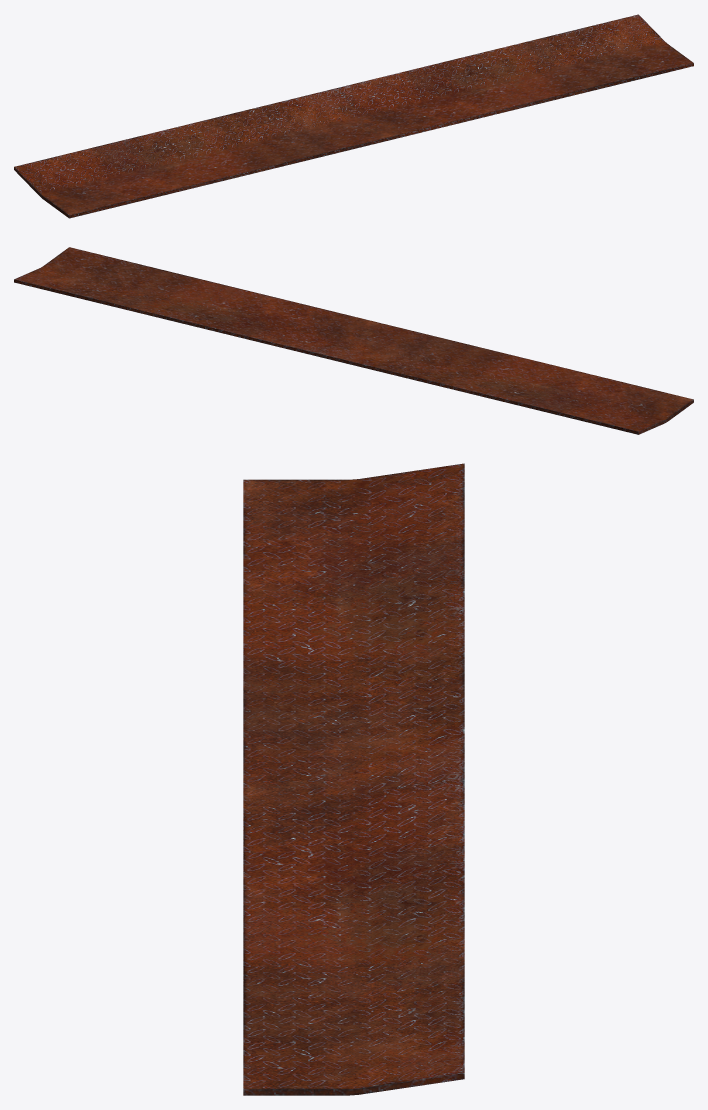
The model's file is MetalPlate_01.FBX.
3 renders of one model, top to bottom at view 1: azimuth 30°, elevation 25°; view 2: azimuth 150°, elevation 25°; view 3: azimuth 270°, elevation 25°, orthographic. The views are drawn at different scales.
Parts seen in each view (by area): view 1: MetalPlate_01; view 2: MetalPlate_01; view 3: MetalPlate_01.
Boxes of the visible parts, bbox=[...] form: MetalPlate_01: bbox=[14, 14, 693, 218]; MetalPlate_01: bbox=[14, 247, 693, 434]; MetalPlate_01: bbox=[243, 463, 464, 1095].
Size of the model in its own units: 150 by 2.57 by 23.
